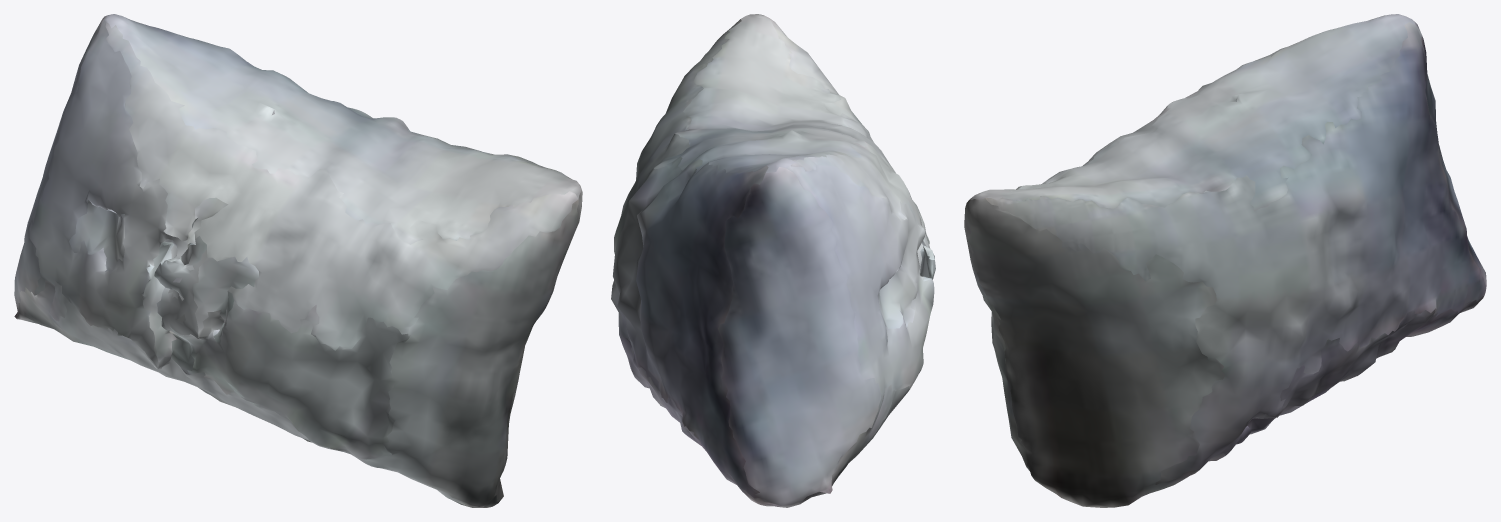
Rendered from 11_pillow.glb.
The picture shows the model from 3 angles, left to right: view 1: azimuth 30°, elevation 25°; view 2: azimuth 150°, elevation 25°; view 3: azimuth 270°, elevation 25°; orthographic projection. The views are drawn at different scales.
Visible parts, largest first — view 1: 11_pillow; view 2: 11_pillow; view 3: 11_pillow.
Part boxes in pixels (x1,y1,x2,y2): 11_pillow: [14, 14, 582, 507]; 11_pillow: [611, 14, 935, 507]; 11_pillow: [964, 14, 1486, 507].
Size of the model in its own units: 0.364 by 0.4106 by 0.4919.
Materials: 1 (1 with a texture image).
